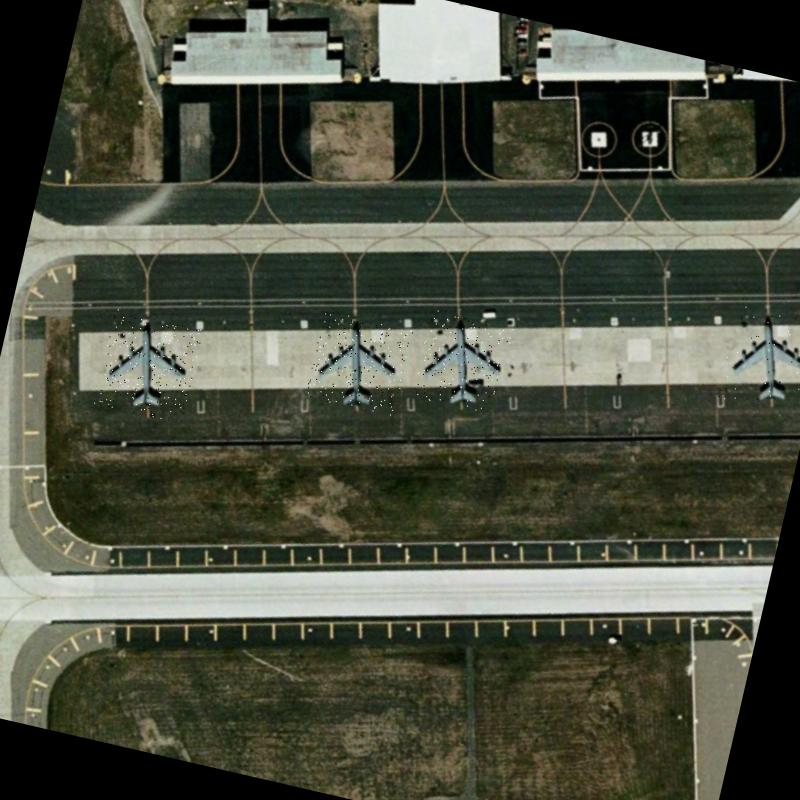A14: (93, 308, 203, 424), (304, 310, 413, 417), (411, 306, 514, 416), (716, 303, 800, 417)
